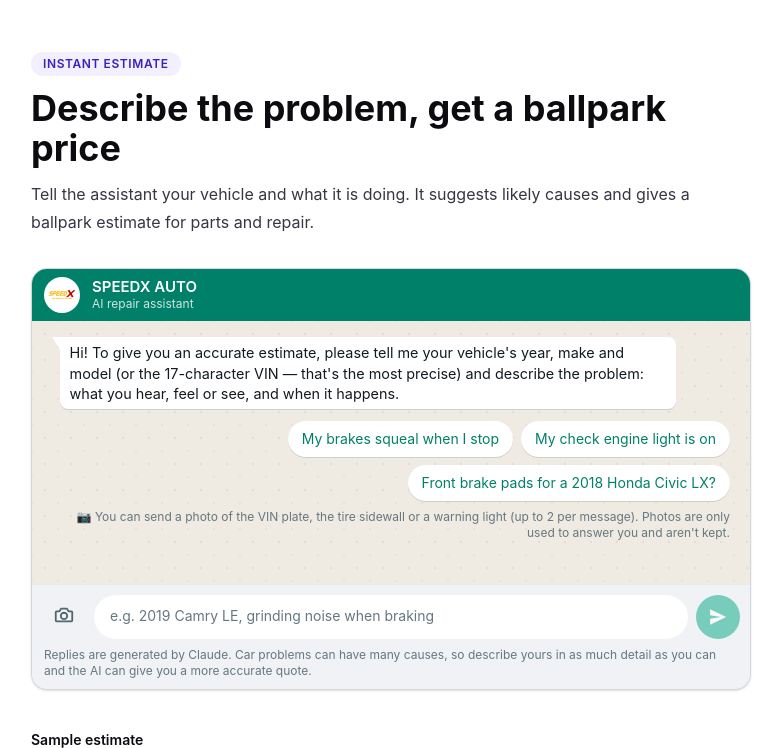
it: RepairChat › asks for name and phone when the estimate is ready, then shows it
Click the button "My brakes squeal when I stop" at (400, 440), box [288, 422, 513, 458]
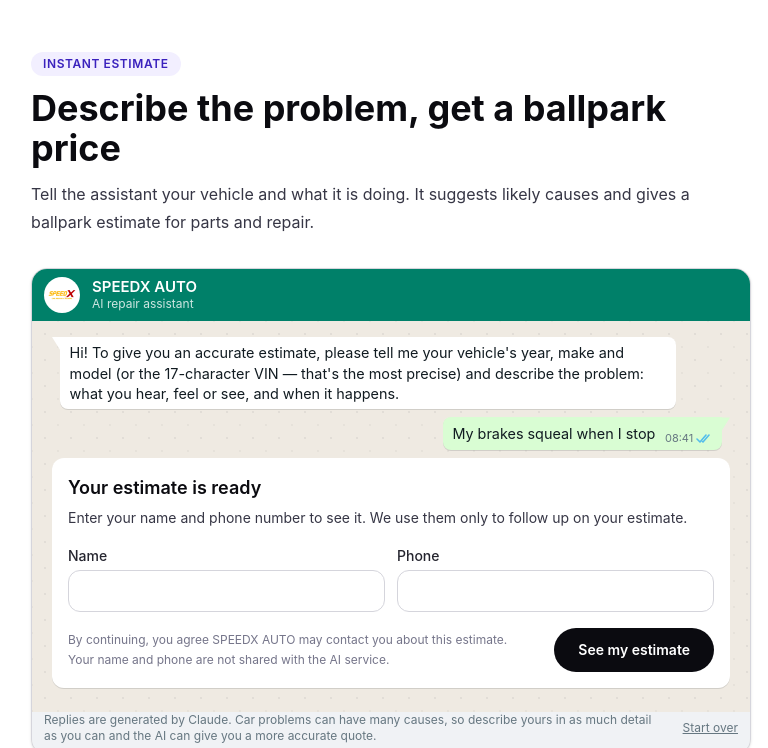
Expected: the field labelled "e.g. 2019 Camry LE, grinding noise when braking" is not shown
Expected: the element with test id "lead-gate" shows "Your estimate is ready", [68, 477, 261, 498]
Type "Kevin" into the field labelled "Name" at (226, 591), box [68, 570, 385, 612]
Type "917-0710" into the field labelled "Phone" at (556, 591), box [397, 570, 714, 612]
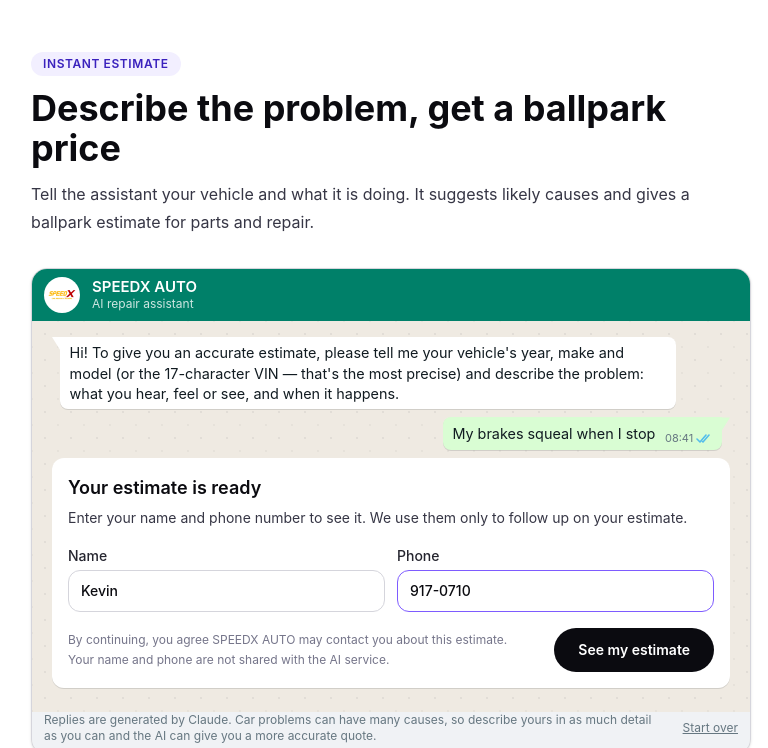
Click the button "See my estimate" at (634, 650), box [554, 628, 714, 672]
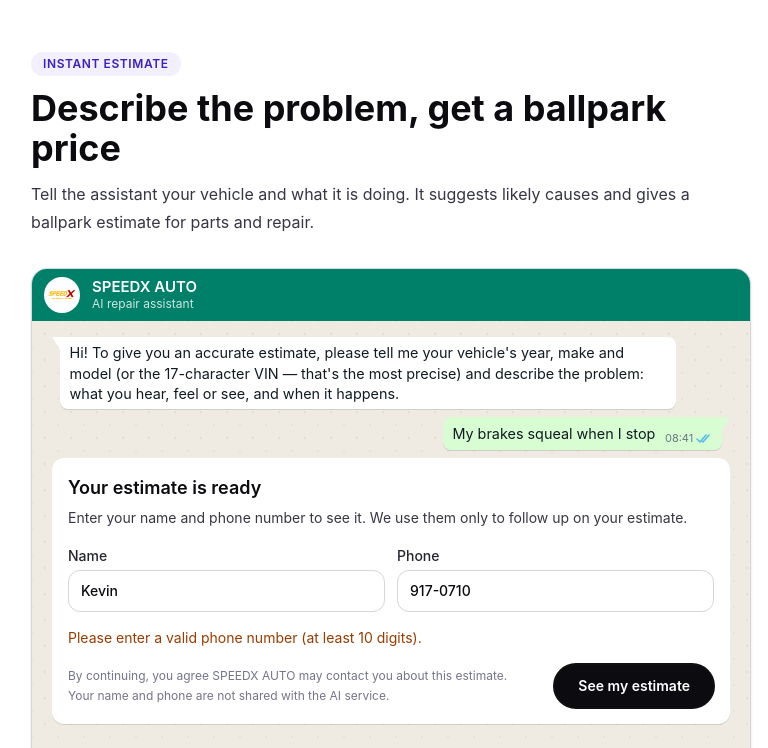
Expected: the message reads "Please enter a valid phone number (at least 10 digits).", [68, 629, 422, 646]
Replace the text in the field labelled "Phone" with "604-555-0182" at (556, 591), box [397, 570, 714, 612]
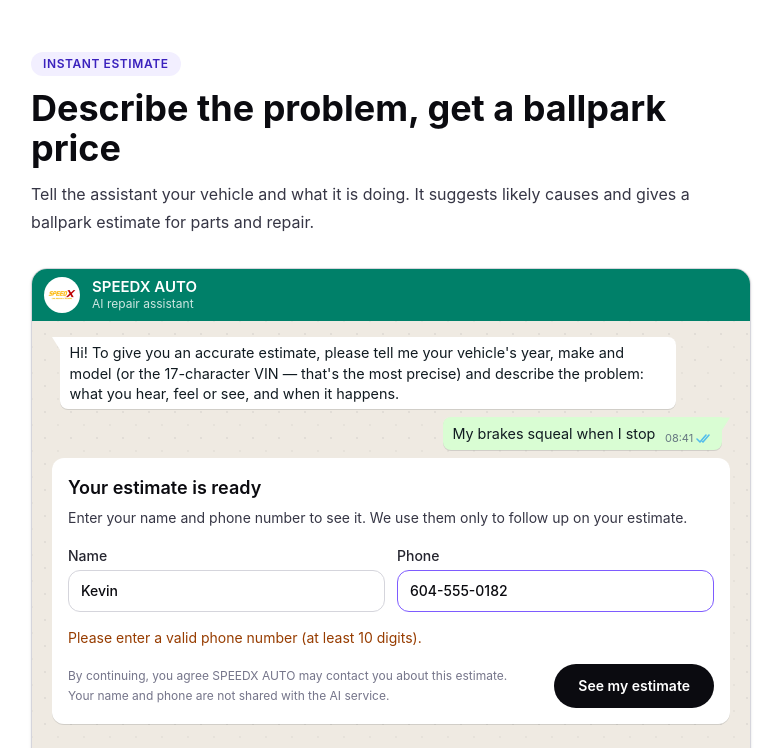
Click the button "See my estimate" at (634, 686), box [554, 664, 714, 708]
(page scrolled)
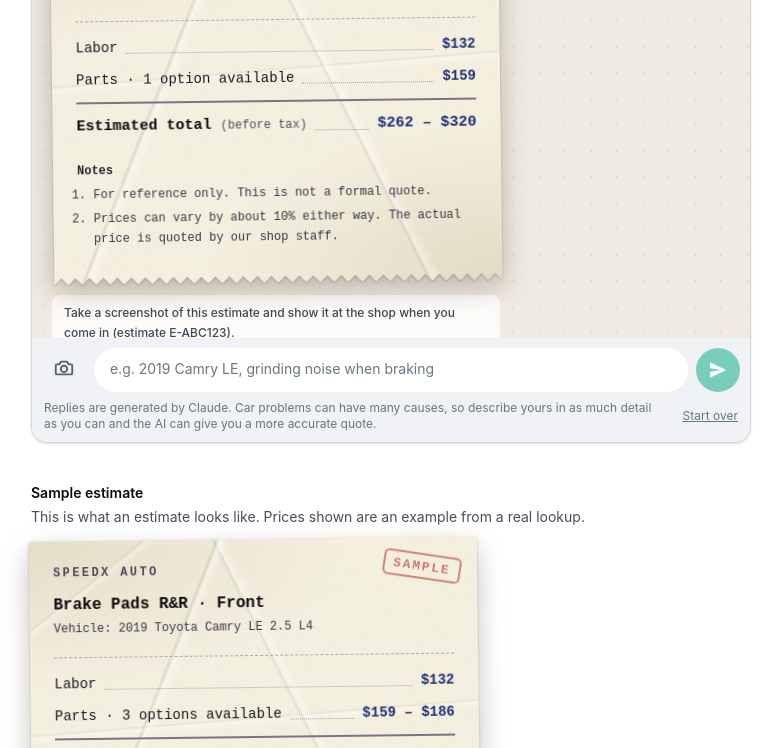
Expected: the element with test id "estimate-card" shows "$262 – $320", [377, 113, 477, 132]
Expected: the element with test id "estimate-card" shows "Prices can vary by about 10% either way. The actual price is quoted by our shop staff.", [94, 208, 461, 246]
Expected: the text with test id "screenshot-tip" shows "E-ABC123", [64, 305, 455, 338]
Type "ok" into the text box labelled "e.g. 2019 Camry LE, grinding noise when braking" at (391, 370), box [94, 348, 688, 392]
Then press Enter
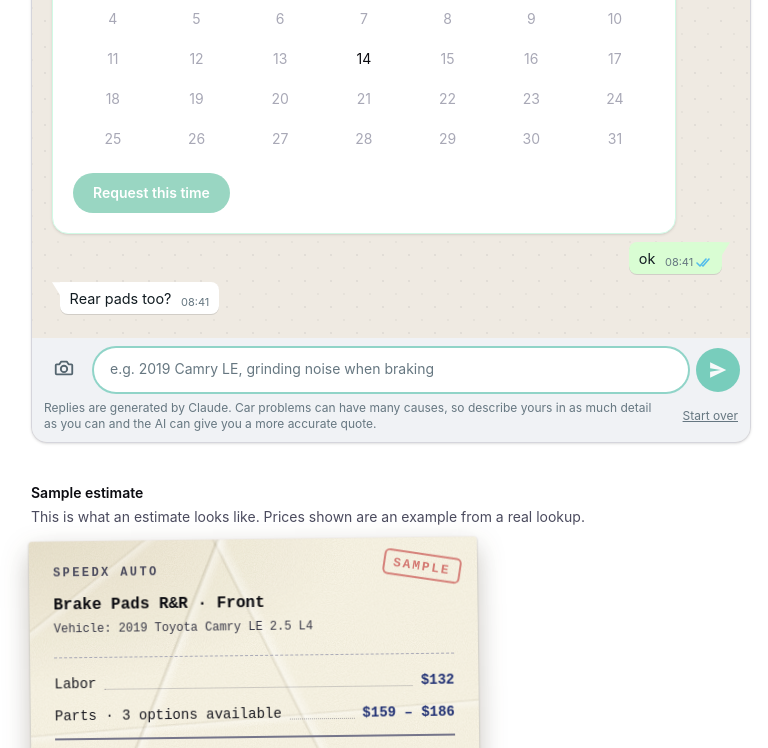
Expected: the text "Rear pads too?" is shown, [70, 290, 171, 307]
